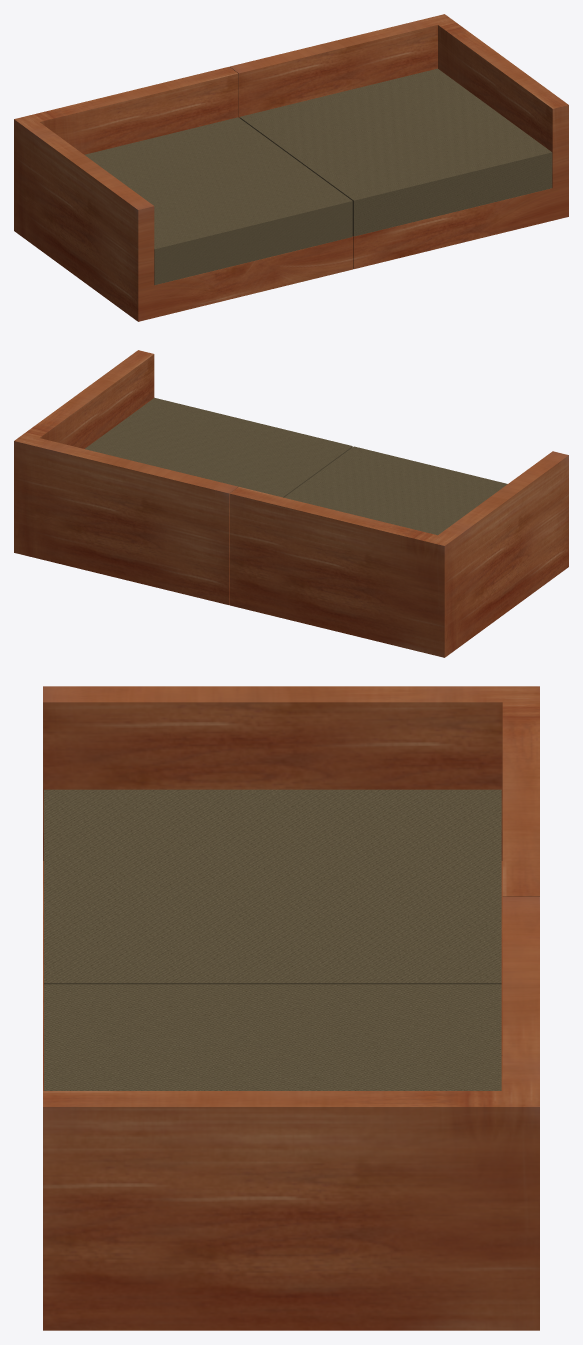
Rendered from substance _file.gltf.
The picture shows the model from 3 angles, top to bottom: view 1: azimuth 30°, elevation 25°; view 2: azimuth 150°, elevation 25°; view 3: azimuth 270°, elevation 25°; orthographic projection. The views are drawn at different scales.
Parts seen in each view (by area): view 1: sofa_Low_Poly (×2); view 2: sofa_Low_Poly (×2); view 3: sofa_Low_Poly (×2).
Part boxes in pixels (box(x1,y1,x2,y2)): sofa_Low_Poly (×2): box(14, 14, 568, 321); sofa_Low_Poly (×2): box(14, 350, 568, 657); sofa_Low_Poly (×2): box(43, 686, 539, 1330).
Size of the model in its own units: 21.3 by 5.28 by 10.64.
2 materials, 2 textured.
